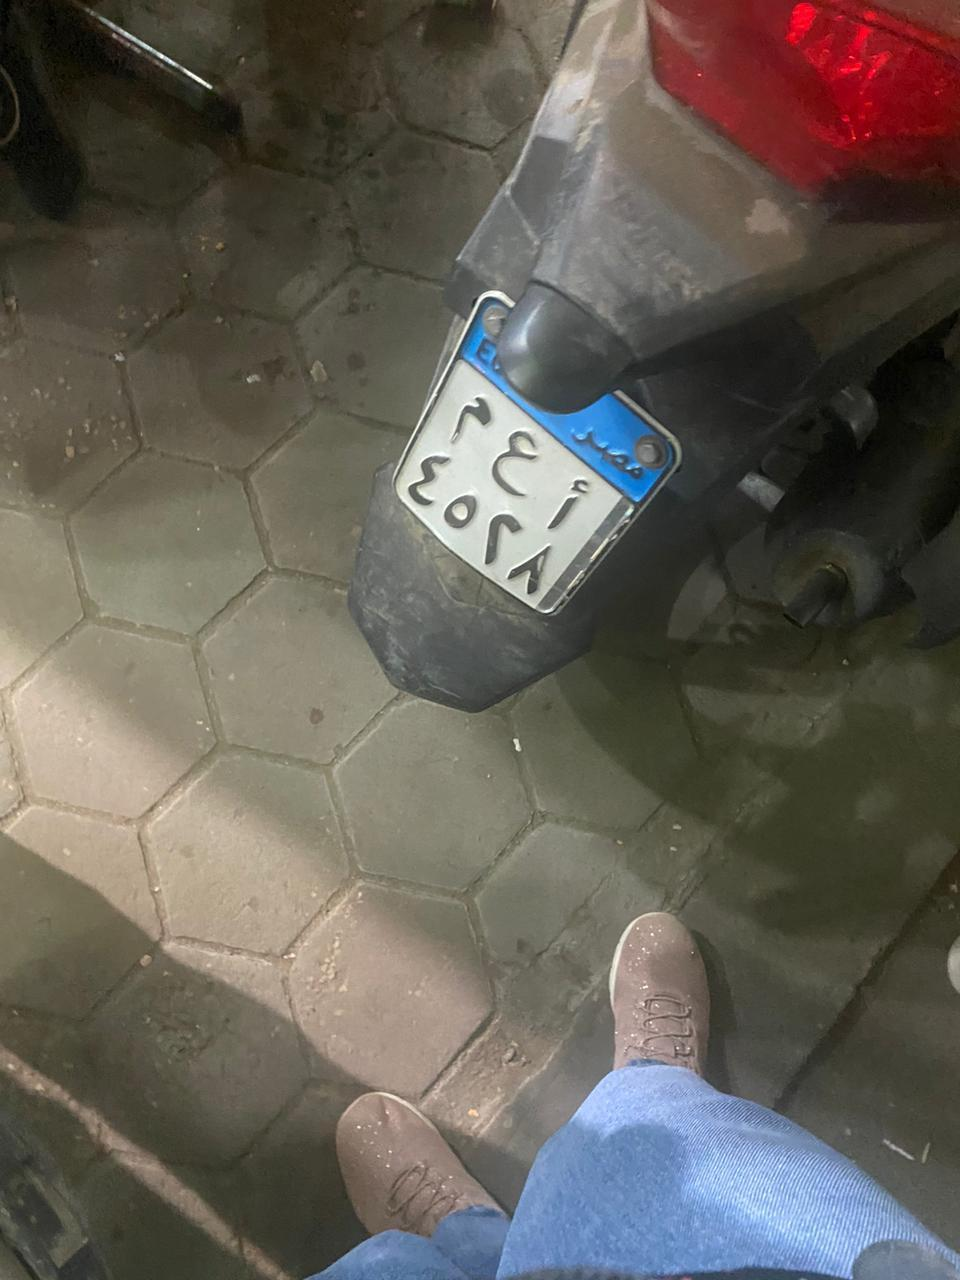License Plate: (381, 296, 681, 624)
